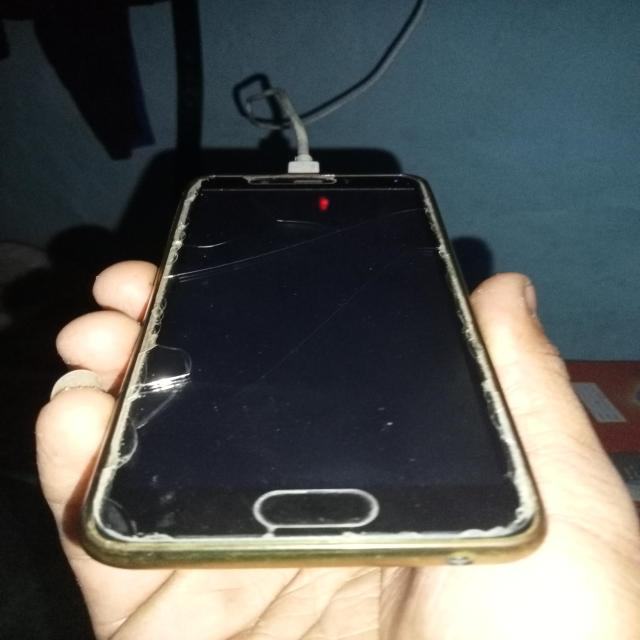mobile: (49, 75, 554, 588)
